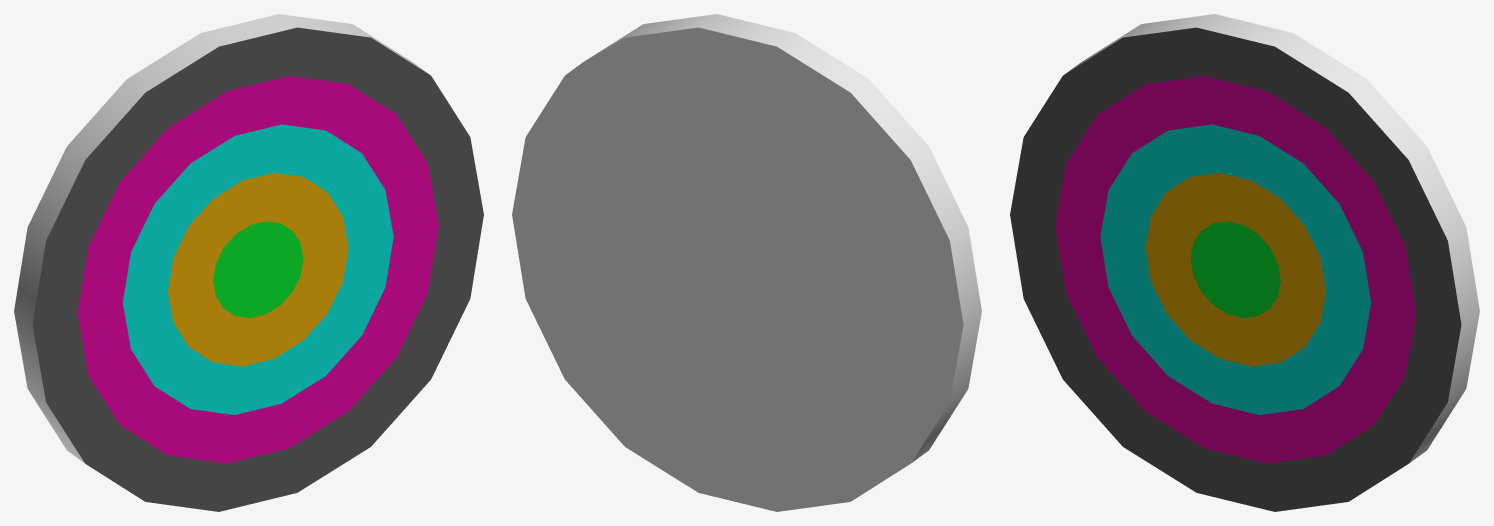
The model's file is target.fbx.
The picture shows the model from 3 angles, left to right: view 1: azimuth 30°, elevation 25°; view 2: azimuth 150°, elevation 25°; view 3: azimuth 330°, elevation 25°; orthographic projection.
Parts seen in each view (by area): view 1: target; view 2: target; view 3: target.
Boxes of the visible parts, x1,y1,x2,y2 form: target: (14, 14, 483, 511); target: (512, 14, 981, 511); target: (1010, 14, 1479, 511).
Bounding box in the file's own units: 2 × 1.97 × 0.1417.
